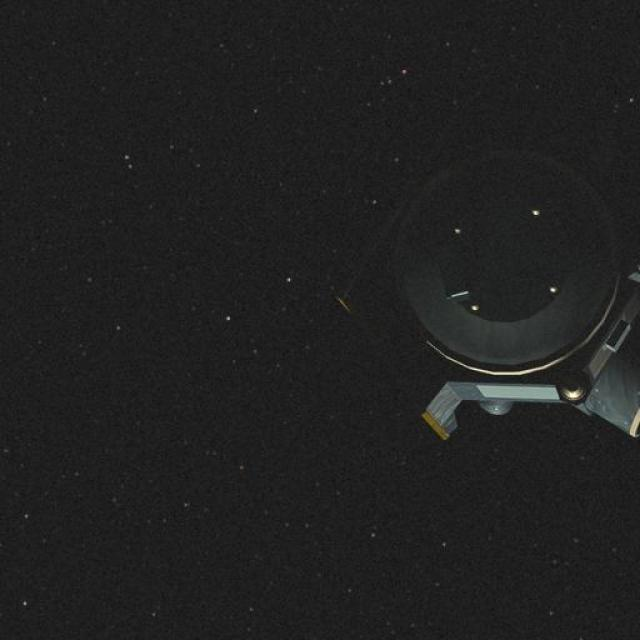cheops: (361, 106, 640, 480)
